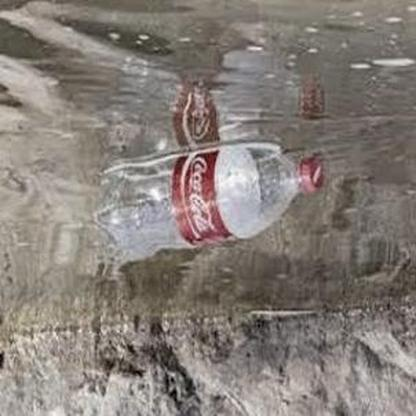plastic bottle: (95, 150, 325, 253)
